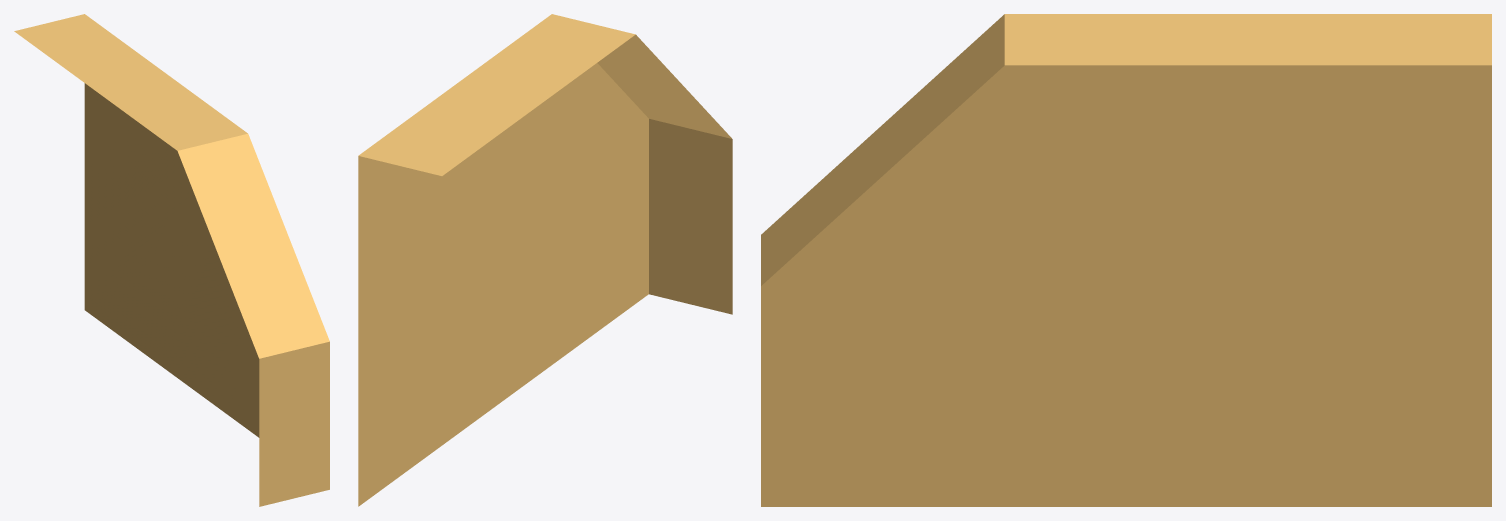
3 renders of one model, left to right at view 1: azimuth 30°, elevation 25°; view 2: azimuth 150°, elevation 25°; view 3: azimuth 270°, elevation 25°, orthographic. The views are drawn at different scales.
Bounding box in the file's own units: 0.1 × 0.4 × 0.6.
